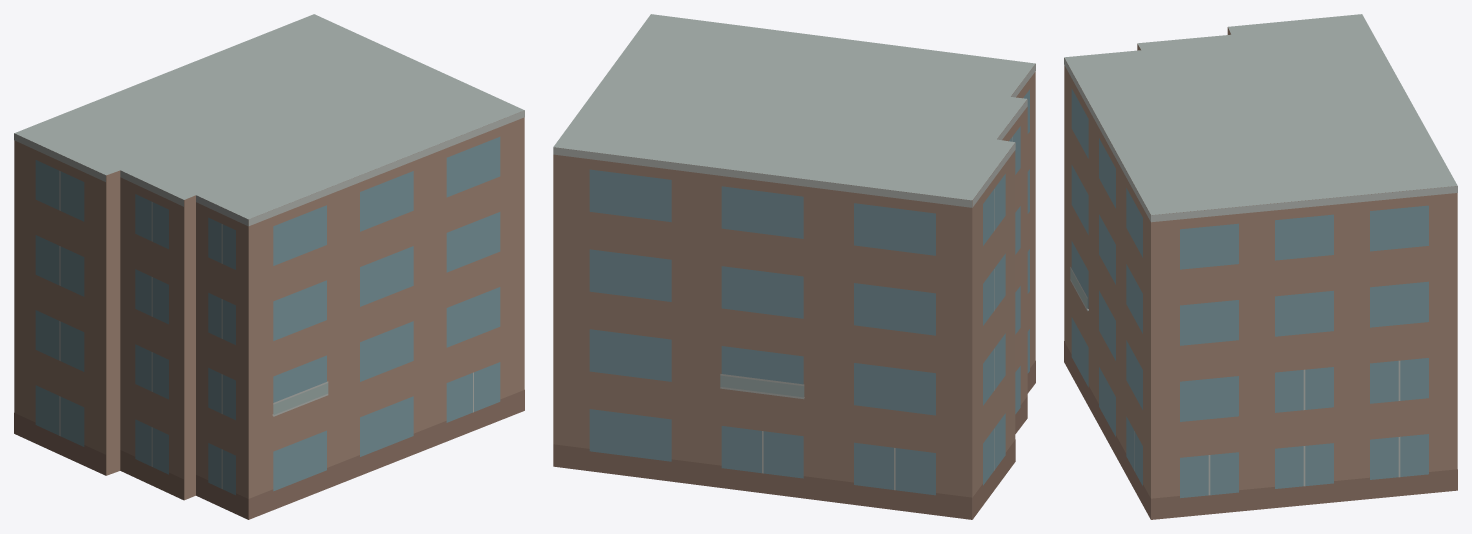
The model's file is survey-upis-32940463.glb.
3 views of the same model, side by side, from view 1: azimuth 30°, elevation 25°; view 2: azimuth 150°, elevation 25°; view 3: azimuth 270°, elevation 25° (orthographic). The views are drawn at different scales.
Parts seen in each view (by area): view 1: survey-upis-32940463.tmp; view 2: survey-upis-32940463.tmp; view 3: survey-upis-32940463.tmp.
Boxes of the visible parts, x1,y1,x2,y2 form: survey-upis-32940463.tmp: [14, 14, 524, 519]; survey-upis-32940463.tmp: [553, 14, 1035, 519]; survey-upis-32940463.tmp: [1064, 14, 1457, 519].
Size of the model in its own units: 14.88 by 10.5 by 12.31.
